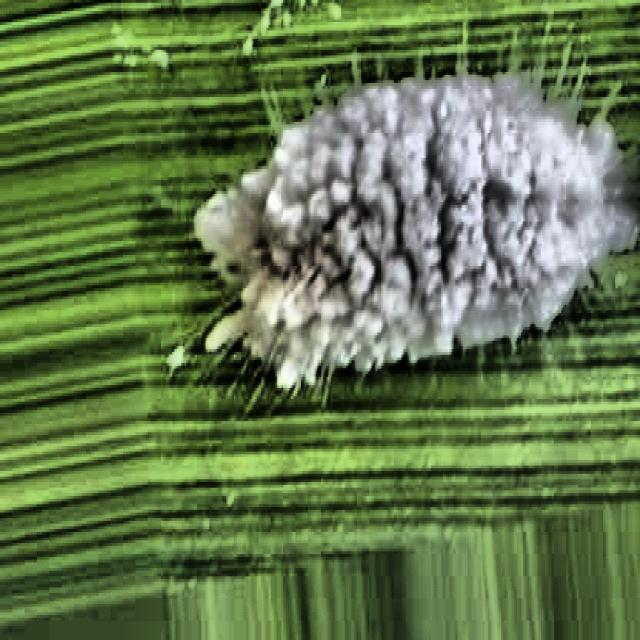Mealy-bug: (170, 22, 638, 410)
